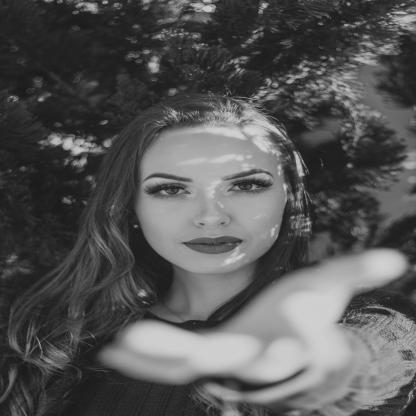Eye: (144, 182, 194, 202), (224, 180, 276, 195)
Mouth: (180, 235, 246, 256)
Nose: (192, 189, 232, 229)
